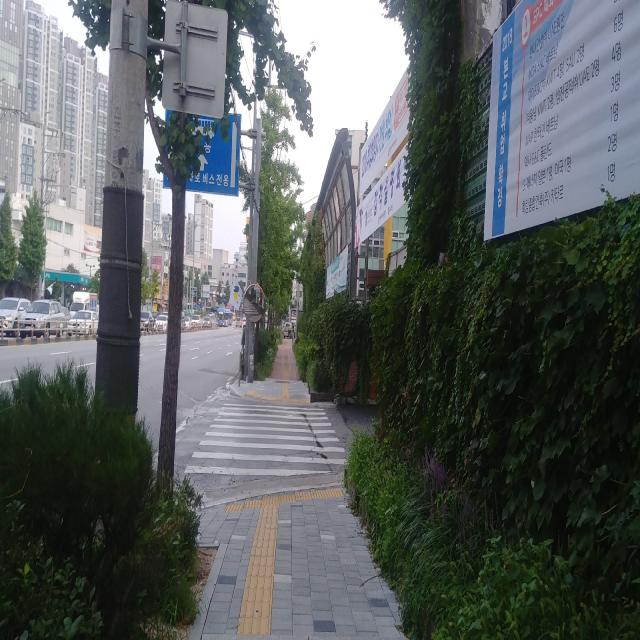횡단보도: (184, 404, 349, 476)
